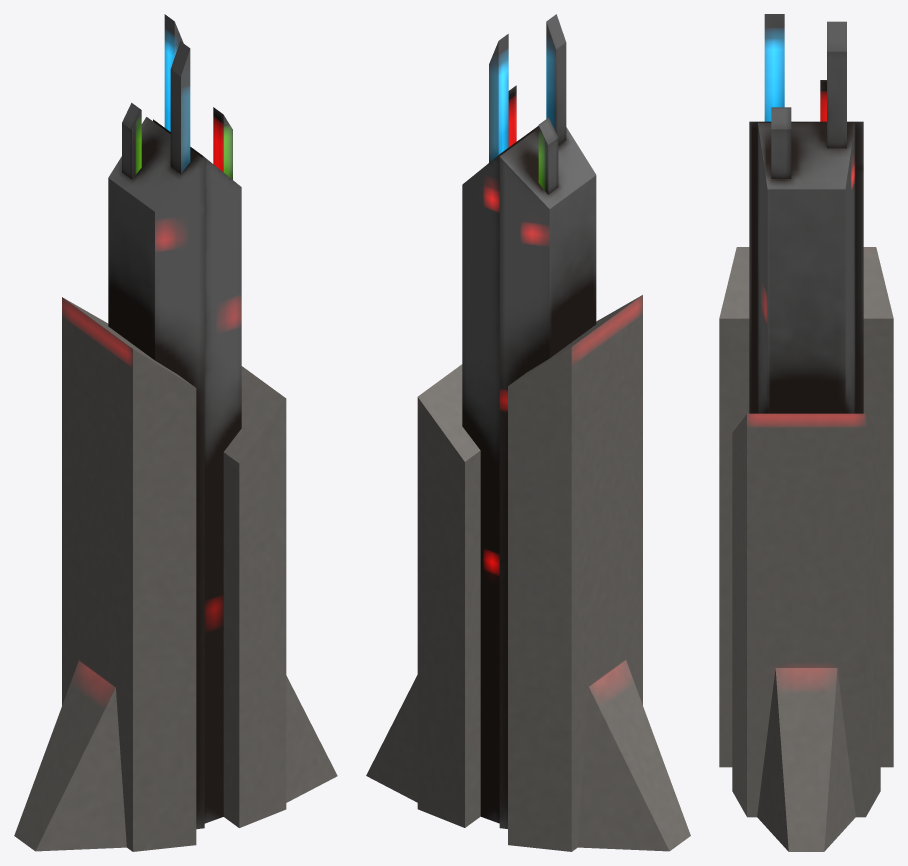
File: SM_BackgroundBuilding_002.fbx
3 renders of one model, left to right at view 1: azimuth 30°, elevation 25°; view 2: azimuth 150°, elevation 25°; view 3: azimuth 270°, elevation 25°, orthographic. The views are drawn at different scales.
Visible parts, largest first — view 1: SM_BackgroundBuilding_002; view 2: SM_BackgroundBuilding_002; view 3: SM_BackgroundBuilding_002.
Boxes of the visible parts, x1,y1,x2,y2 form: SM_BackgroundBuilding_002: (14,14,337,851); SM_BackgroundBuilding_002: (366,14,690,851); SM_BackgroundBuilding_002: (719,14,893,851).
Size of the model in its own units: 1379 by 698 by 3362.
Materials: 1 (1 with a texture image).
